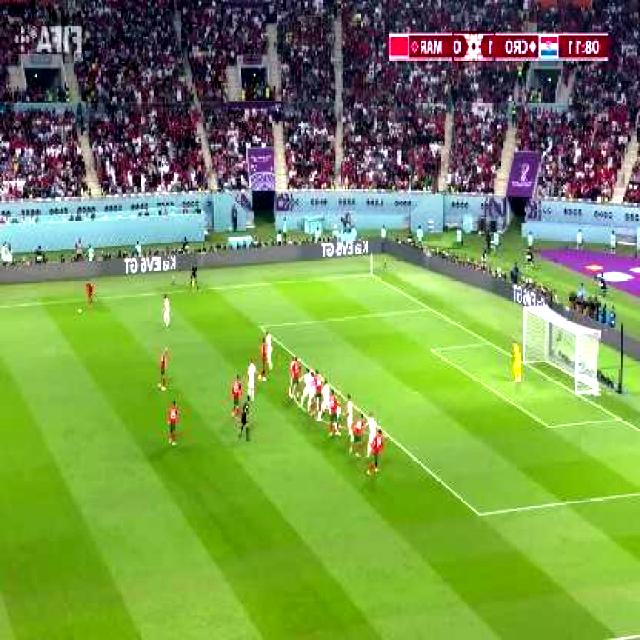bigarea_bottom_inner: (472, 503, 488, 525)
bigarea_top_inner: (259, 322, 266, 332)
bigarea_top_outter: (428, 303, 435, 312)
bottom_arc_area_intersection: (384, 429, 394, 440)
corner: (368, 271, 375, 277)
smallarea_bottom_inner: (544, 418, 556, 434)
smallarea_bottom_outter: (616, 410, 626, 424)
smallarea_top_inner: (429, 344, 438, 356)
smallarea_top_outter: (484, 337, 494, 348)
